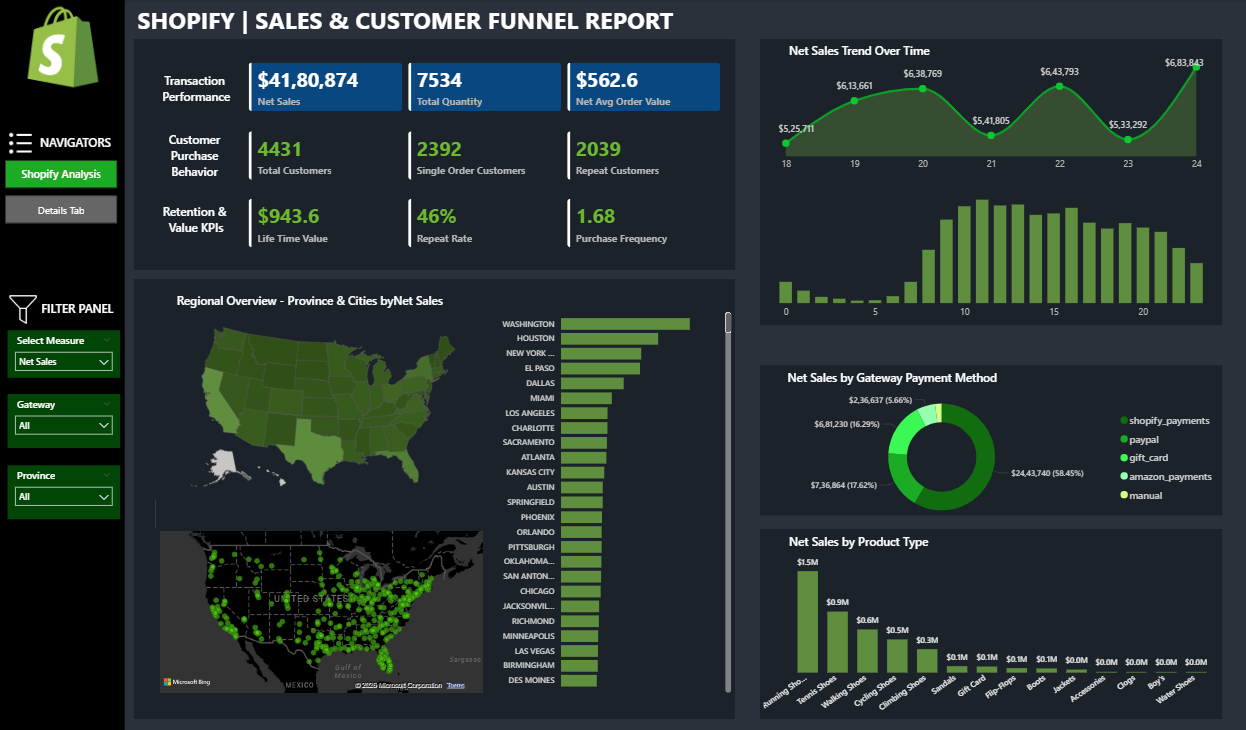

This screenshot's page, from the dashboard's own definition file:
{"tool":"powerbi","page":{"name":"Shopify Analysis","canvas":[1700,1000],"ordinal":0},"visuals":[{"type":"shape","box":[0,0,170,999],"z":0},{"type":"textbox","box":[182.3,1.7,741.3,54.5],"z":1000},{"type":"shape","box":[182.2,54.7,820,315],"z":2000},{"type":"cardVisual","fields":{"Data":["shopify_sales.Net Sales","shopify_sales.Total Quantity","shopify_sales.Net Avg Order Value"]},"box":[322.1,69.9,680,100.5],"z":3000},{"type":"card","fields":{"Values":["shopify_sales.Transaction Perf"]},"box":[213,88.6,109.1,66.5],"z":4000},{"type":"cardVisual","fields":{"Data":["shopify_sales.Total Customers","shopify_sales.Single Order Customers","shopify_sales.Repeat Customers"]},"box":[322.1,162.7,680,100.5],"z":5000},{"type":"card","fields":{"Values":["shopify_sales.Customer Purchase Behavior"]},"box":[213,168.7,109.1,83.5],"z":6000},{"type":"cardVisual","fields":{"Data":["shopify_sales.Life Time Value","shopify_sales.Repeat Rate","shopify_sales.Purchase Frequency"]},"box":[322.1,255.6,680,100.5],"z":7000},{"type":"card","fields":{"Values":["shopify_sales.Retention & Value KPIs"]},"box":[213,265.9,109.1,83.5],"z":8000},{"type":"shape","box":[182.3,381.7,819.7,599.9],"z":9000},{"type":"shapeMap","fields":{"Value":["shopify_sales.Net Sales"],"Category":["shopify_sales.Billing Address Province"]},"box":[213,431.2,455,250.5],"z":10000},{"type":"slicer","fields":{"Values":["Select Measure.Select Measure"]},"box":[9.9,451.6,153.4,64.8],"z":11000},{"type":"map","fields":{"Category":["shopify_sales.Location"]},"box":[213,681.7,449.9,269.3],"z":12000},{"type":"clusteredBarChart","fields":{"Y":["shopify_sales.Net Sales"],"Category":["shopify_sales.CITY"]},"box":[668,414.1,334,536.8],"z":13000},{"type":"card","fields":{"Values":["Select Measure.Map Title"]},"box":[182.3,397.1,480.6,32.4],"z":14000},{"type":"shape","box":[1036.1,54.5,630.5,390.3],"z":15000},{"type":"areaChart","fields":{"Y":["shopify_sales.Net Sales"],"Category":["shopify_sales.Invoice Date.Variation.Date Hierarchy.Day"]},"box":[1056.6,68.2,589.6,175.5],"z":16000},{"type":"columnChart","fields":{"Y":["shopify_sales.Net Sales"],"Category":["shopify_sales.Hour"]},"box":[1056.6,245.4,589.6,199.4],"z":17000},{"type":"card","fields":{"Values":["shopify_sales.Trend Title"]},"box":[1036.1,56.2,271,32.4],"z":18000},{"type":"shape","box":[1036.1,499.3,630.5,205],"z":19000},{"type":"donutChart","fields":{"Y":["shopify_sales.Net Sales"],"Category":["shopify_sales.Gateway"]},"box":[1036.1,526.6,630.5,196],"z":20000},{"type":"card","fields":{"Values":["shopify_sales.Gateway Title"]},"box":[1036.1,499.3,361.3,37.5],"z":21000},{"type":"shape","box":[1036.1,722.6,630.5,259],"z":22000},{"type":"columnChart","fields":{"Y":["shopify_sales.Net Sales"],"Category":["shopify_sales.Product Type"]},"box":[1036.1,741.3,630.5,240.3],"z":23000},{"type":"card","fields":{"Values":["shopify_sales.Product Title"]},"box":[1036.1,722.6,269.3,37.5],"z":24000},{"type":"image","box":[25.6,10.2,121,110.8],"z":25000},{"type":"slicer","fields":{"Values":["shopify_sales.Gateway"]},"box":[9.5,539.4,153.4,73.3],"z":26000},{"type":"slicer","fields":{"Values":["shopify_sales.Billing Address Province"]},"box":[9.5,635.7,153.4,73.3],"z":27000},{"type":"pageNavigator","box":[6.8,219.8,153.4,86.9],"z":28000},{"type":"image","box":[6.8,173.8,42.6,46],"z":29000},{"type":"textbox","box":[49.4,178.9,121,37.5],"z":30000},{"type":"image","box":[9.5,402.2,42.6,42.6],"z":31000},{"type":"textbox","box":[50.4,405.6,112.5,35.8],"z":32000},{"type":"shape","box":[213,683.4,449.9,39.2],"z":33000}]}

Visuals, with their boxes on the page's 1700x1000 design canvas (x1, y1, x2, y2). These are canvas units, not pixel positions in the 1246x730 screenshot, which may show the page scaled, cropped or inside an application window:
shape: bbox=(0, 0, 170, 999)
textbox: bbox=(182, 2, 924, 56)
shape: bbox=(182, 55, 1002, 370)
cardVisual - shopify_sales.Net Sales x shopify_sales.Total Quantity: bbox=(322, 70, 1002, 170)
card - shopify_sales.Transaction Perf: bbox=(213, 89, 322, 155)
cardVisual - shopify_sales.Total Customers x shopify_sales.Single Order Customers: bbox=(322, 163, 1002, 263)
card - shopify_sales.Customer Purchase Behavior: bbox=(213, 169, 322, 252)
cardVisual - shopify_sales.Life Time Value x shopify_sales.Repeat Rate: bbox=(322, 256, 1002, 356)
card - shopify_sales.Retention & Value KPIs: bbox=(213, 266, 322, 349)
shape: bbox=(182, 382, 1002, 982)
shapeMap - shopify_sales.Net Sales x shopify_sales.Billing Address Province: bbox=(213, 431, 668, 682)
slicer - Select Measure.Select Measure: bbox=(10, 452, 163, 516)
map - shopify_sales.Location: bbox=(213, 682, 663, 951)
clusteredBarChart - shopify_sales.Net Sales x shopify_sales.CITY: bbox=(668, 414, 1002, 951)
card - Select Measure.Map Title: bbox=(182, 397, 663, 430)
shape: bbox=(1036, 54, 1667, 445)
areaChart - shopify_sales.Net Sales x shopify_sales.Invoice Date.Variation.Date Hierarchy.Day: bbox=(1057, 68, 1646, 244)
columnChart - shopify_sales.Net Sales x shopify_sales.Hour: bbox=(1057, 245, 1646, 445)
card - shopify_sales.Trend Title: bbox=(1036, 56, 1307, 89)
shape: bbox=(1036, 499, 1667, 704)
donutChart - shopify_sales.Net Sales x shopify_sales.Gateway: bbox=(1036, 527, 1667, 723)
card - shopify_sales.Gateway Title: bbox=(1036, 499, 1397, 537)
shape: bbox=(1036, 723, 1667, 982)
columnChart - shopify_sales.Net Sales x shopify_sales.Product Type: bbox=(1036, 741, 1667, 982)
card - shopify_sales.Product Title: bbox=(1036, 723, 1305, 760)
image: bbox=(26, 10, 147, 121)
slicer - shopify_sales.Gateway: bbox=(10, 539, 163, 613)
slicer - shopify_sales.Billing Address Province: bbox=(10, 636, 163, 709)
pageNavigator: bbox=(7, 220, 160, 307)
image: bbox=(7, 174, 49, 220)
textbox: bbox=(49, 179, 170, 216)
image: bbox=(10, 402, 52, 445)
textbox: bbox=(50, 406, 163, 441)
shape: bbox=(213, 683, 663, 723)
